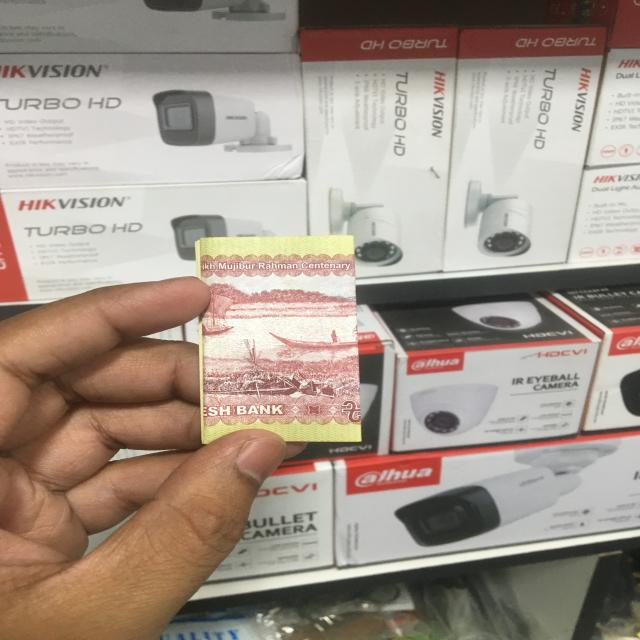Taka: (194, 242, 358, 439)
